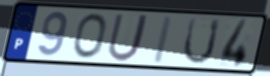4: (219, 17, 250, 70)
9: (36, 10, 70, 59)
I: (150, 14, 176, 66)
O: (72, 12, 108, 61)
U: (105, 12, 151, 64), (181, 16, 223, 66)
